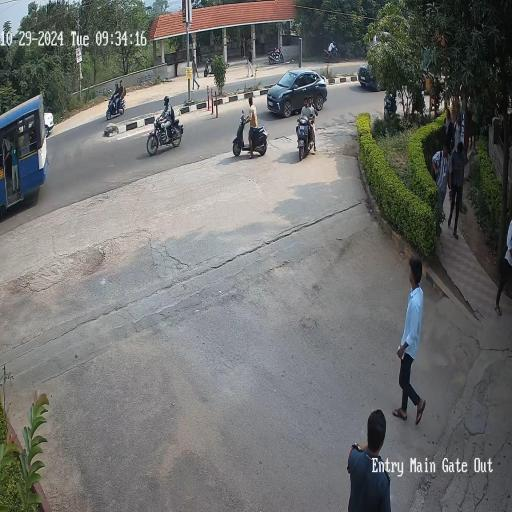helmet: (156, 88, 177, 118)
no helmet: (246, 94, 258, 119)
triple riding: (296, 93, 323, 154)
